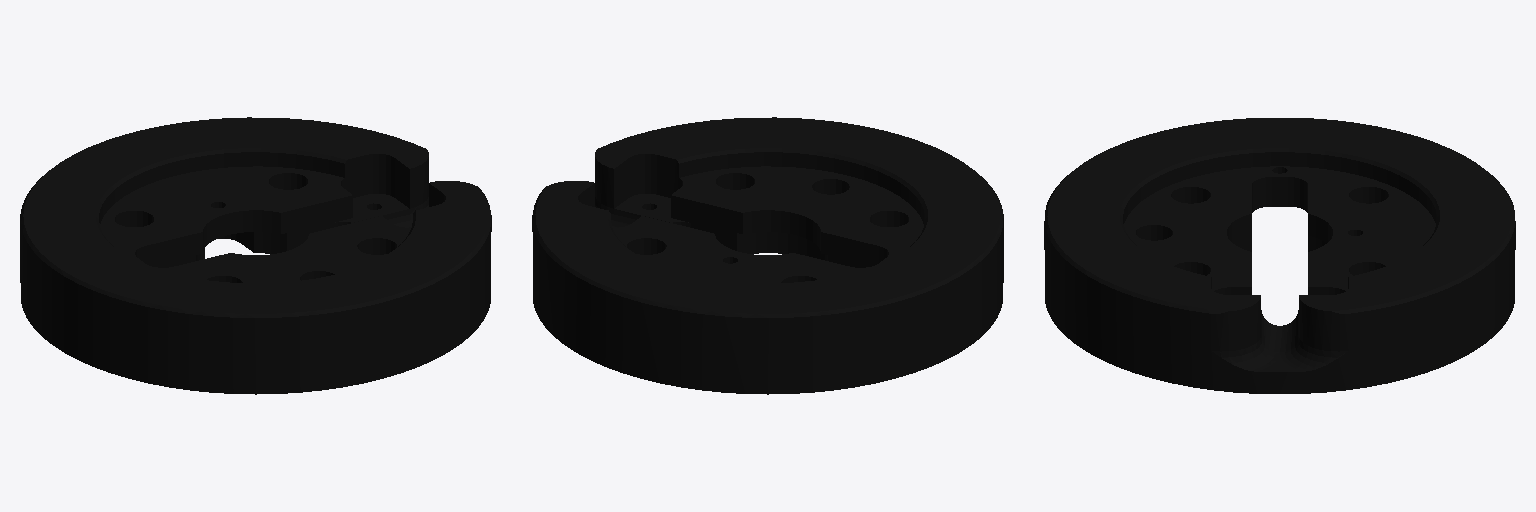
robot.urdf — panda:
<?xml version="1.0" ?>
<!-- =================================================================================== -->
<!-- |    This document was autogenerated by xacro from panda_arm_hand.urdf.xacro      | -->
<!-- |    EDITING THIS FILE BY HAND IS NOT RECOMMENDED                                 | -->
<!-- =================================================================================== -->
<robot name="panda" xmlns:xacro="http://www.ros.org/wiki/xacro">
  <link name="base_link">
    <visual>
      <geometry>
        <mesh filename="/franka/visual/link0.dae"/>
      </geometry>
      <material name="panda_white"/>
    </visual>
    <collision>
      <geometry>
        <mesh filename="/franka/visual/link0.dae"/>
      </geometry>
      <material name="panda_white"/>
    </collision>
  </link>
  <link name="panda_link1">
    <visual>
      <geometry>
        <mesh filename="/franka/visual/link1.dae"/>
      </geometry>
      <material name="panda_white"/>
    </visual>
    <collision>
      <geometry>
        <mesh filename="/franka/visual/link1.dae"/>
      </geometry>
      <material name="panda_white"/>
    </collision>
  </link>
  <joint name="panda_joint1" type="revolute">
    <safety_controller k_position="100.0" k_velocity="40.0" soft_lower_limit="-2.8973" soft_upper_limit="2.8973"/>
    <origin rpy="0 0 0" xyz="0 0 0.333"/>
    <parent link="base_link"/>
    <child link="panda_link1"/>
    <axis xyz="0 0 1"/>
    <limit effort="87" lower="-2.9671" upper="2.9671" velocity="2.1750"/>
  </joint>
  <link name="panda_link2">
    <visual>
      <geometry>
        <mesh filename="/franka/visual/link2.dae"/>
      </geometry>
      <material name="panda_white"/>
    </visual>
    <collision>
      <geometry>
        <mesh filename="/franka/visual/link2.dae"/>
      </geometry>
      <material name="panda_white"/>
    </collision>
  </link>
  <joint name="panda_joint2" type="revolute">
    <safety_controller k_position="100.0" k_velocity="40.0" soft_lower_limit="-1.7628" soft_upper_limit="1.7628"/>
    <origin rpy="-1.57079632679 0 0" xyz="0 0 0"/>
    <parent link="panda_link1"/>
    <child link="panda_link2"/>
    <axis xyz="0 0 1"/>
    <limit effort="87" lower="-1.8326" upper="1.8326" velocity="2.1750"/>
  </joint>
  <link name="panda_link3">
    <visual>
      <geometry>
        <mesh filename="/franka/visual/link3.dae"/>
      </geometry>
      <material name="panda_white"/>
    </visual>
    <collision>
      <geometry>
        <mesh filename="/franka/visual/link3.dae"/>
      </geometry>
      <material name="panda_white"/>
    </collision>
  </link>
  <joint name="panda_joint3" type="revolute">
    <safety_controller k_position="100.0" k_velocity="40.0" soft_lower_limit="-2.8973" soft_upper_limit="2.8973"/>
    <origin rpy="1.57079632679 0 0" xyz="0 -0.316 0"/>
    <parent link="panda_link2"/>
    <child link="panda_link3"/>
    <axis xyz="0 0 1"/>
    <limit effort="87" lower="-2.9671" upper="2.9671" velocity="2.1750"/>
  </joint>
  <link name="panda_link4">
    <visual>
      <geometry>
        <mesh filename="/franka/visual/link4.dae"/>
      </geometry>
      <material name="panda_white"/>
    </visual>
    <collision>
      <geometry>
        <mesh filename="/franka/visual/link4.dae"/>
      </geometry>
      <material name="panda_white"/>
    </collision>
  </link>
  <joint name="panda_joint4" type="revolute">
    <safety_controller k_position="100.0" k_velocity="40.0" soft_lower_limit="-3.0718" soft_upper_limit="-0.0698"/>
    <origin rpy="1.57079632679 0 0" xyz="0.0825 0 0"/>
    <parent link="panda_link3"/>
    <child link="panda_link4"/>
    <axis xyz="0 0 1"/>
    <limit effort="87" lower="-3.1416" upper="0.0" velocity="2.1750"/>
  </joint>
  <link name="panda_link5">
    <visual>
      <geometry>
        <mesh filename="/franka/visual/link5.dae"/>
      </geometry>
      <material name="panda_white"/>
    </visual>
    <collision>
      <geometry>
        <mesh filename="/franka/visual/link5.dae"/>
      </geometry>
      <material name="panda_white"/>
    </collision>
  </link>
  <joint name="panda_joint5" type="revolute">
    <safety_controller k_position="100.0" k_velocity="40.0" soft_lower_limit="-2.8973" soft_upper_limit="2.8973"/>
    <origin rpy="-1.57079632679 0 0" xyz="-0.0825 0.384 0"/>
    <parent link="panda_link4"/>
    <child link="panda_link5"/>
    <axis xyz="0 0 1"/>
    <limit effort="12" lower="-2.9671" upper="2.9671" velocity="2.6100"/>
  </joint>
  <link name="panda_link6">
    <visual>
      <geometry>
        <mesh filename="/franka/visual/link6.dae"/>
      </geometry>
#      <material name="panda_white"/>
    </visual>
    <collision>
      <geometry>
        <mesh filename="/franka/visual/link6.dae"/>
      </geometry>
      <material name="panda_white"/>
    </collision>
  </link>
  <joint name="panda_joint6" type="revolute">
    <safety_controller k_position="100.0" k_velocity="40.0" soft_lower_limit="-0.0175" soft_upper_limit="3.7525"/>
    <origin rpy="1.57079632679 0 0" xyz="0 0 0"/>
    <parent link="panda_link5"/>
    <child link="panda_link6"/>
    <axis xyz="0 0 1"/>
    <limit effort="12" lower="-0.0873" upper="3.8223" velocity="2.6100"/>
  </joint>
  <link name="panda_link7">
    <visual>
      <geometry>
        <mesh filename="/franka/visual/link7.dae"/>
      </geometry>
      <material name="panda_white"/>
    </visual>
    <collision>
      <geometry>
        <mesh filename="/franka/visual/link7.dae"/>
      </geometry>
      <material name="panda_white"/>
    </collision>
  </link>
  <joint name="panda_joint7" type="revolute">
    <safety_controller k_position="100.0" k_velocity="40.0" soft_lower_limit="-2.8973" soft_upper_limit="2.8973"/>
    <origin rpy="1.57079632679 0 0" xyz="0.088 0 0"/>
    <parent link="panda_link6"/>
    <child link="panda_link7"/>
    <axis xyz="0 0 1"/>
    <limit effort="12" lower="-2.9671" upper="2.9671" velocity="2.6100"/>
  </joint>
  <link name="panda_link8"/>

  <joint name="panda_joint8" type="fixed">
    <origin rpy="0 0 0" xyz="0 0 0.107"/>
    <parent link="panda_link7"/>
    <child link="panda_link8"/>
    <axis xyz="0 0 0"/>
  </joint>

  <joint name="panda_robotiq_coupling" type="fixed">
    <origin rpy="0 0 0" xyz="0 0 0"/>
    <parent link="panda_link8"/>
    <child link="robotiq_85_coupling_link"/>
    <axis xyz="0 0 0"/>
  </joint>

  <link name="robotiq_85_coupling_link">
    <visual>
      <geometry>
        <mesh filename="robotiq_2f_85/visual/robotiq_gripper_couplingvn.obj"/>
      </geometry>
      <material name="Black"/>
    </visual>
    <collision>
      <geometry>
        <mesh filename="robotiq_2f_85/visual/robotiq_gripper_couplingvn.obj"/>
      </geometry>
    </collision>
  </link>

  <joint name="robotiq_85_base_joint" type="fixed">
    <parent link="robotiq_85_coupling_link"/>
    <child link="robotiq_85_base_link"/>
    <origin rpy="0.0 -1.5707963267 0" xyz="0 0 0"/>
  </joint>

  <link name="robotiq_85_base_link">
    <visual>
      <geometry>
        <mesh filename="robotiq/visual/robotiq_85_base_link.obj"/>
      </geometry>
      <material name="Black"/>
    </visual> 
    <collision>
      <geometry>
        <mesh filename="robotiq/collision/robotiq_85_base_link.stl"/>
      </geometry>
    </collision>
    <inertial>
      <mass value="0.0"/>
      <origin xyz="0.0 0.0 0.0"/>
      <inertia ixx="0.000380" ixy="0.000000" ixz="0.000000" iyx="0.000000" iyy="0.001110" iyz="0.000000" izx="0.000000" izy="0.000000" izz="0.001171"/>
    </inertial>
  </link>

  <joint name="robotiq_85_left_knuckle_joint" type="revolute">
    <parent link="robotiq_85_base_link"/>
    <child link="robotiq_85_left_knuckle_link"/>
    <axis xyz="0 0 1"/>
    <origin rpy="3.14159 0.0 0.0" xyz="0.05490451627 0.03060114443 0.0"/>
    <limit effort="1000" lower="0" upper="0.81" velocity="100.0"/>
  </joint>
  <joint name="robotiq_85_right_knuckle_joint" type="continuous">
    <parent link="robotiq_85_base_link"/>
    <child link="robotiq_85_right_knuckle_link"/>
    <axis xyz="0 0 1"/>
    <origin rpy="0.0 0.0 0.0" xyz="0.05490451627 -0.03060114443 0.0"/>
    <limit effort="1000" lower="0" upper="0.81" velocity="100.0"/>
  </joint>

  <link name="robotiq_85_left_knuckle_link">
    <visual>
      <geometry>
        <mesh filename="robotiq/visual/robotiq_85_knuckle_link.obj"/>
      </geometry>
      <material name="Black"/>
    </visual>
    <collision>
      <geometry>
        <mesh filename="robotiq/collision/robotiq_85_knuckle_link.stl"/>
      </geometry>
    </collision>
    <inertial>
      <mass value="0.018491"/>
      <origin xyz="0.0 0.0 0.0"/>
      <inertia ixx="0.000009" ixy="-0.000001" ixz="0.000000" iyx="-0.000001" iyy="0.000001" iyz="0.000000" izx="0.000000" izy="0.000000" izz="0.000010"/>
    </inertial>
  </link>

  <link name="robotiq_85_right_knuckle_link">
    <visual>
      <geometry>
        <mesh filename="robotiq/visual/robotiq_85_knuckle_link.obj"/>
      </geometry>
      <material name="Black"/>
    </visual>
    <collision>
      <geometry>
        <mesh filename="robotiq/collision/robotiq_85_knuckle_link.stl"/>
      </geometry>
    </collision>
    <inertial>
      <mass value="0.018491"/>
      <origin xyz="0.0 0.0 0.0"/>
      <inertia ixx="0.000009" ixy="-0.000001" ixz="0.000000" iyx="-0.000001" iyy="0.000001" iyz="0.000000" izx="0.000000" izy="0.000000" izz="0.000010"/>
    </inertial>
  </link>


  <joint name="robotiq_85_left_finger_joint" type="fixed">
    <parent link="robotiq_85_left_knuckle_link"/>
    <child link="robotiq_85_left_finger_link"/>
    <origin rpy="0 0 0" xyz="-0.00408552455 -0.03148604435 0.0"/>
  </joint>
  <joint name="robotiq_85_right_finger_joint" type="fixed">
    <parent link="robotiq_85_right_knuckle_link"/>
    <child link="robotiq_85_right_finger_link"/>
    <origin rpy="0 0 0" xyz="-0.00408552455 -0.03148604435 0.0"/>
  </joint>

  <link name="robotiq_85_left_finger_link">
    <visual>
      <geometry>
        <mesh filename="robotiq/visual/robotiq_85_finger_link.obj"/>
      </geometry>
      <material name="Black"/>
    </visual> 
    <collision>
      <geometry>
        <mesh filename="robotiq/collision/robotiq_85_finger_link.stl"/>
      </geometry>
    </collision>
    <inertial>
      <mass value="0.027309"/>
      <origin xyz="0.0 0.0 0.0"/>
      <inertia ixx="0.000003" ixy="-0.000002" ixz="0.000000" iyx="-0.000002" iyy="0.000021" iyz="0.000000" izx="0.000000" izy="0.000000" izz="0.000020"/>
    </inertial>
  </link>

  <link name="robotiq_85_right_finger_link">
    <visual>
      <geometry>
        <mesh filename="robotiq/visual/robotiq_85_finger_link.obj"/>
      </geometry>
      <material name="Black"/>
    </visual> 
    <collision>
      <geometry>
        <mesh filename="robotiq/collision/robotiq_85_finger_link.stl"/>
      </geometry>
    </collision>
    <inertial>
      <mass value="0.027309"/>
      <origin xyz="0.0 0.0 0.0"/>
      <inertia ixx="0.000003" ixy="-0.000002" ixz="0.000000" iyx="-0.000002" iyy="0.000021" iyz="0.000000" izx="0.000000" izy="0.000000" izz="0.000020"/>
    </inertial>
  </link>

  <joint name="robotiq_85_left_inner_knuckle_joint" type="continuous">
    <parent link="robotiq_85_base_link"/>
    <child link="robotiq_85_left_inner_knuckle_link"/>
    <axis xyz="0 0 1"/>
    <origin rpy="3.14159 0.0 0.0" xyz="0.06142 0.0127 0"/>
    <limit effort="1000" lower="0" upper="0.87" velocity="100.0"/>
  </joint>

  <joint name="robotiq_85_right_inner_knuckle_joint" type="continuous">
    <parent link="robotiq_85_base_link"/>
    <child link="robotiq_85_right_inner_knuckle_link"/>
    <axis xyz="0 0 1"/>
    <origin rpy="0 0 0" xyz="0.06142 -0.0127 0"/>
    <limit effort="1000" lower="0" upper="0.87" velocity="100.0"/>
  </joint>

  <link name="robotiq_85_left_inner_knuckle_link">
    <visual>
      <geometry>
        <mesh filename="robotiq/visual/robotiq_85_inner_knuckle_link.obj"/>
      </geometry>
      <material name="Black"/>
    </visual>
    <collision>
      <geometry>
        <mesh filename="robotiq/collision/robotiq_85_inner_knuckle_link.stl"/>
      </geometry>
    </collision>
    <inertial>
      <mass value="0.029951"/>
      <origin xyz="0.0 0.0 0.0"/>
      <inertia ixx="0.000039" ixy="0.000000" ixz="0.000000" iyx="0.000000" iyy="0.000005" iyz="0.000000" izx="0.000000" izy="0.000000" izz="0.000035"/>
    </inertial>
  </link>

  <link name="robotiq_85_right_inner_knuckle_link">
    <visual>
      <geometry>
        <mesh filename="robotiq/visual/robotiq_85_inner_knuckle_link.obj"/>
      </geometry>
      <material name="Black"/>
    </visual>
    <collision>
      <geometry>
        <mesh filename="robotiq/collision/robotiq_85_inner_knuckle_link.stl"/>
      </geometry>
    </collision>
    <inertial>
      <mass value="0.029951"/>
      <origin xyz="0.0 0.0 0.0"/>
      <inertia ixx="0.000039" ixy="0.000000" ixz="0.000000" iyx="0.000000" iyy="0.000005" iyz="0.000000" izx="0.000000" izy="0.000000" izz="0.000035"/>
    </inertial>
  </link>

  <joint name="robotiq_85_left_finger_tip_joint" type="continuous">
    <parent link="robotiq_85_left_inner_knuckle_link"/>
    <child link="robotiq_85_left_finger_tip_link"/>
    <axis xyz="0 0 1"/>
    <origin rpy="0.0 0.0 0.0" xyz="0.04303959807 -0.03759940821 0.0"/>
    <limit effort="1000" lower="0" upper="-0.8" velocity="100.0"/>
  </joint>

  <joint name="robotiq_85_right_finger_tip_joint" type="continuous">
    <parent link="robotiq_85_right_inner_knuckle_link"/>
    <child link="robotiq_85_right_finger_tip_link"/>
    <axis xyz="0 0 1"/>
    <origin rpy="0.0 0.0 0.0" xyz="0.04303959807 -0.03759940821  0.0"/>
    <limit effort="1000" lower="0" upper="-0.8" velocity="100.0"/>
  </joint>

  <link name="robotiq_85_left_finger_tip_link">
    <visual>
      <geometry>
        <mesh filename="robotiq/visual/robotiq_85_finger_tip_link.obj"/>
      </geometry>
      <material name="light black"/>
    </visual>
    <collision>
      <geometry>
        <mesh filename="robotiq/collision/robotiq_85_finger_tip_link.stl"/>
      </geometry>
    </collision>
    <inertial>
      <mass value="0.019555"/>
      <origin xyz="0.0 0.0 0.0"/>
      <inertia ixx="0.000002" ixy="0.000000" ixz="0.000000" iyx="0.000000" iyy="0.000005" iyz="0.000000" izx="0.000000" izy="0.000000" izz="0.000006"/>
    </inertial>
  </link>

  <link name="robotiq_85_right_finger_tip_link">
    <visual>
      <geometry>
        <mesh filename="robotiq/visual/robotiq_85_finger_tip_link.obj"/>
      </geometry>
      <material name="light black"/>
    </visual>
    <collision>
      <geometry>
        <mesh filename="robotiq/collision/robotiq_85_finger_tip_link.stl"/>
      </geometry>
    </collision>
    <inertial>
      <mass value="0.019555"/>
      <origin xyz="0.0 0.0 0.0"/>
      <inertia ixx="0.000002" ixy="0.000000" ixz="0.000000" iyx="0.000000" iyy="0.000005" iyz="0.000000" izx="0.000000" izy="0.000000" izz="0.000006"/>
    </inertial>
  </link>

  <material name="panda_white">
    <color rgba="1. 1. 1. 1."/>
  </material>
  <material name="light black">
    <color rgba="0.85 0.85 0.85 1.0"/>
  </material>
  <material name="Black">
    <color rgba="0.1 0.1 0.1 1.0"/>
  </material>
  <material name="Gray">
    <color rgba="0.5 0.5 0.5 1.0"/>
  </material>
</robot>

--- What the picture shows (computed from the rendered views, not written in the file) ---
The picture shows the robot from 3 angles, left to right: view 1: azimuth 30°, elevation 25°; view 2: azimuth 150°, elevation 25°; view 3: azimuth 270°, elevation 25°; orthographic projection.
Model panda with 19 links and 18 joints (8 revolute, 5 continuous, 5 fixed), rooted at base_link, posed all joints at 0.
Links seen in each view (by area): view 1: robotiq_85_coupling_link; view 2: robotiq_85_coupling_link; view 3: robotiq_85_coupling_link.
Link boxes in pixels (x1,y1,x2,y2): robotiq_85_coupling_link: (20,117,491,394); robotiq_85_coupling_link: (532,117,1003,394); robotiq_85_coupling_link: (1044,118,1515,393).
Bounding box of the posed robot: 0.075 × 0.0749 × 0.0139 m (x, y, z).
Meshes: 6 distinct files referenced, 1 mesh visuals loaded (1 OBJ); not drawn: 9 (reference not matched to a file when rendering), 8 (reference in a form the renderer does not follow; not among the files counted above).